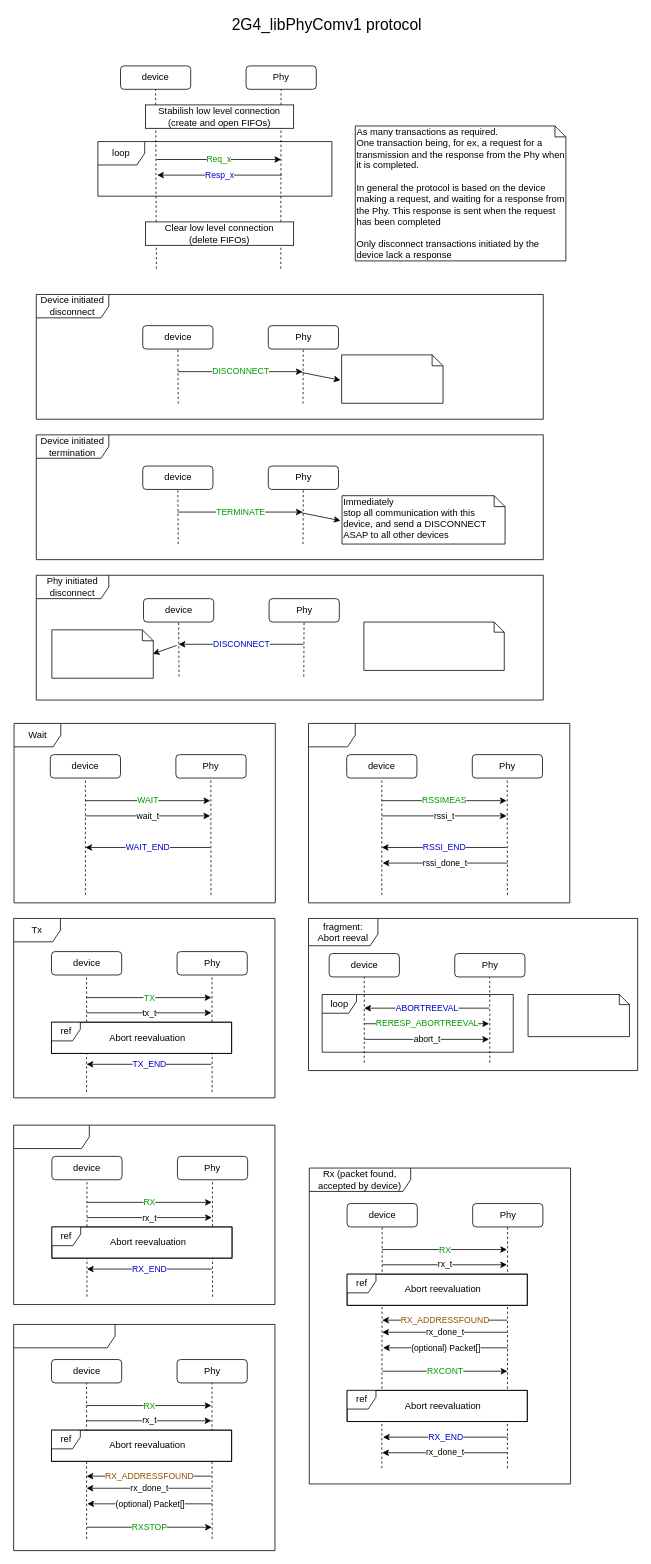
This 651x1564 diagram has some shape labels left out. The shapes that lost their labels are listed below. From the top down, each one's centre as x and y in pixels, then its label:
the point at 392,378: Immediately stop all communication with this device
the point at 102,653: Immediately terminate all communication with Phy
the point at 433,645: A DISCONNECT from the Phy takes the place of any other response from the Phy
the point at 439,813: RSSI
the point at 578,1015: As many times as required given the abort_t parameters
the point at 144,1214: Rx (no packet found)
the point at 144,1437: Rx (packet found, rejected by device)
